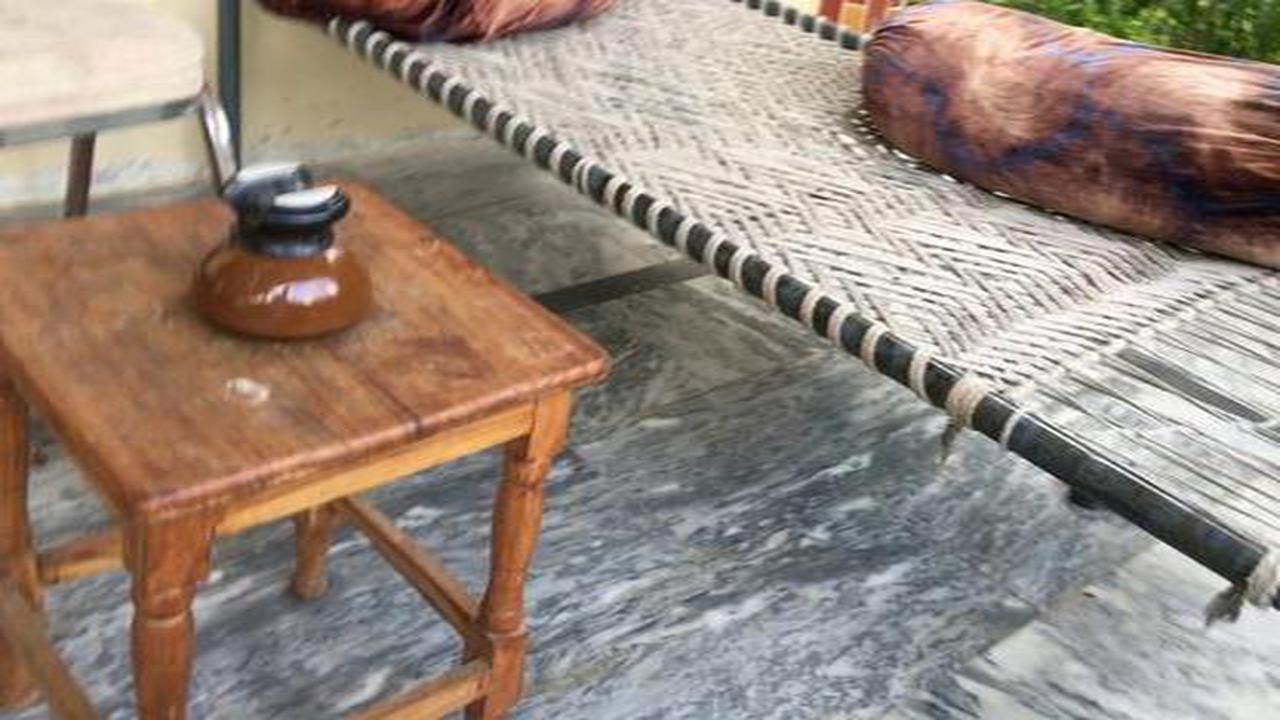insulator_pin: (181, 149, 394, 361)
